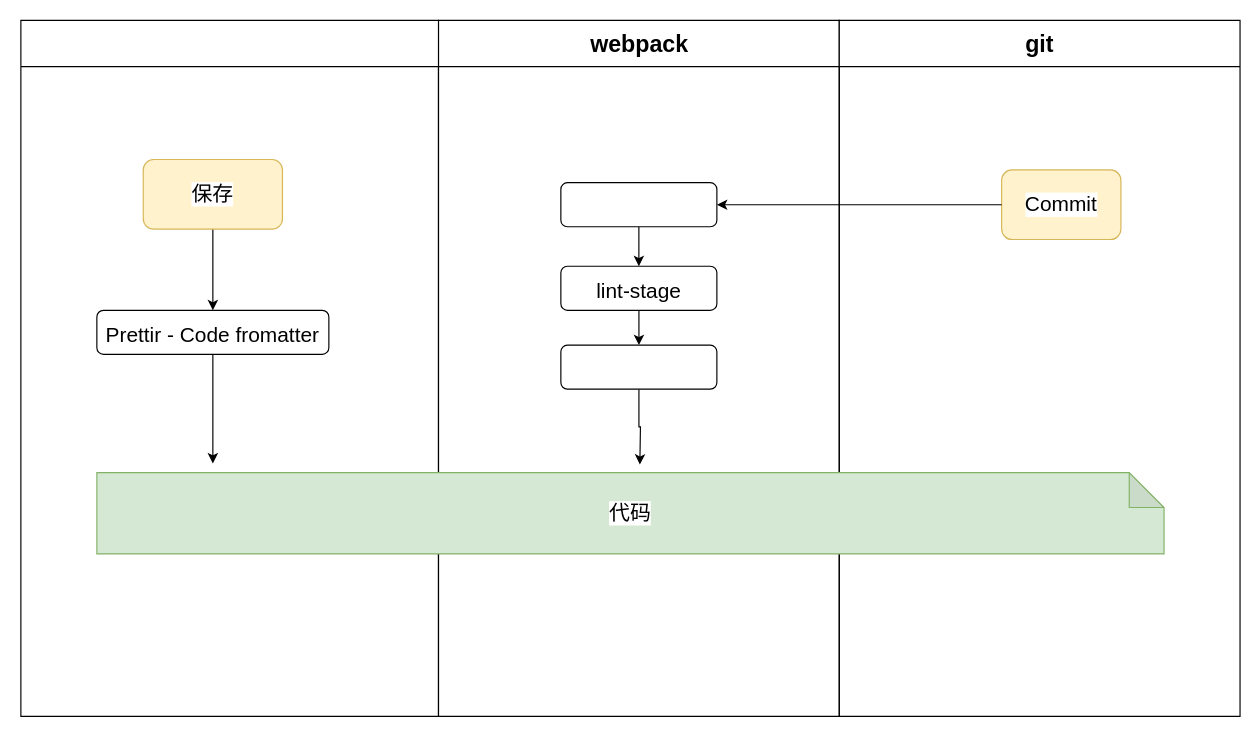
Image size: 1260x737. Some labels were removed from this diagram. The shapes that lost their labels are listed below. From the top down, each one's box as (x1, y1, x2, y2) in pixels, then its label:
(560, 182, 717, 227): husky
(20, 19, 438, 716): vscode
(560, 344, 717, 389): eslint
